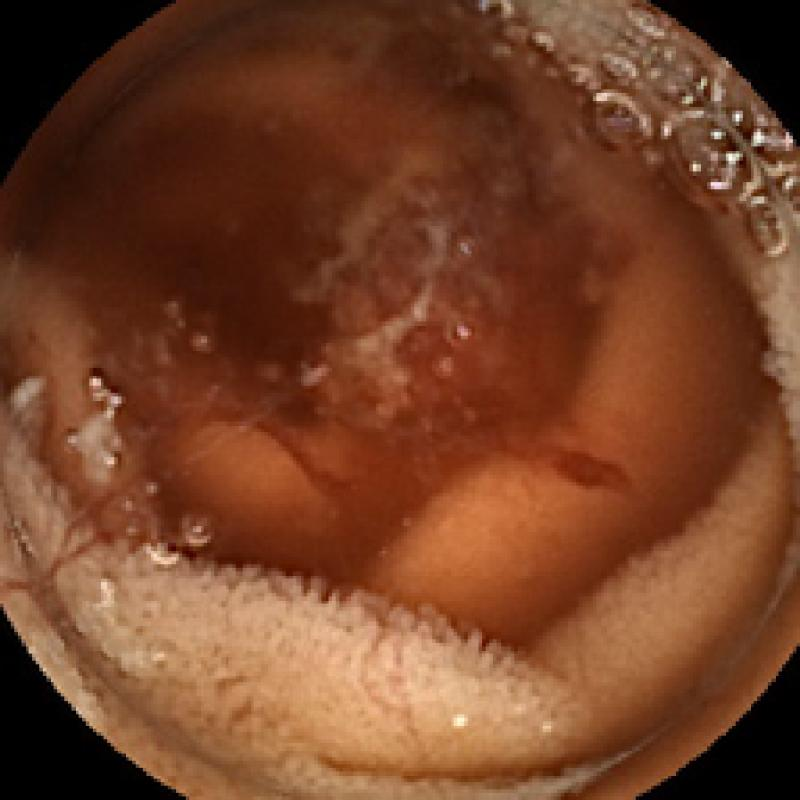bleeding: (157, 96, 643, 500), (1, 479, 144, 613)
